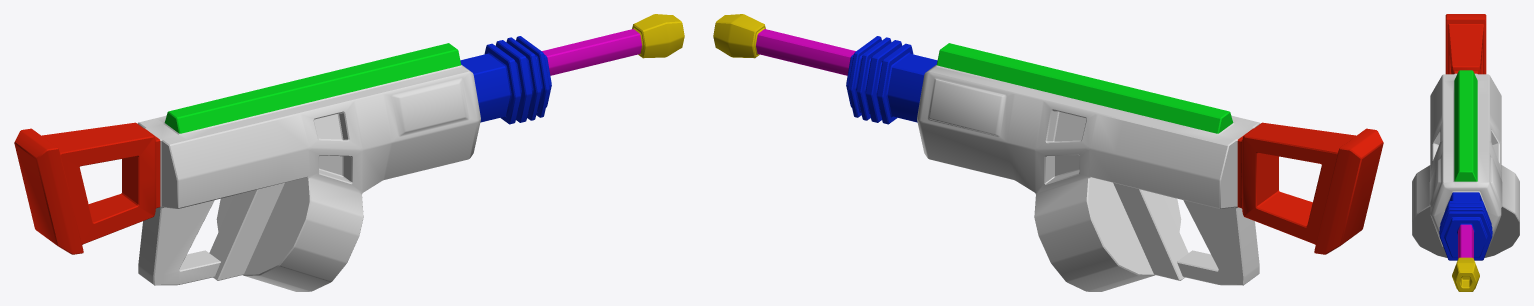
Rendered from H19 plasmaGun.fbx.
3 views of the same model, side by side, from view 1: azimuth 30°, elevation 25°; view 2: azimuth 150°, elevation 25°; view 3: azimuth 270°, elevation 25° (orthographic). The views are drawn at different scales.
Parts seen in each view (by area): view 1: Cube.002; view 2: Cube.002; view 3: Cube.002.
Boxes of the visible parts, bbox=[...] form: Cube.002: bbox=[14, 14, 684, 291]; Cube.002: bbox=[713, 14, 1383, 291]; Cube.002: bbox=[1412, 14, 1519, 291].
Bounding box in the file's own units: 391 × 120 × 75.85.
